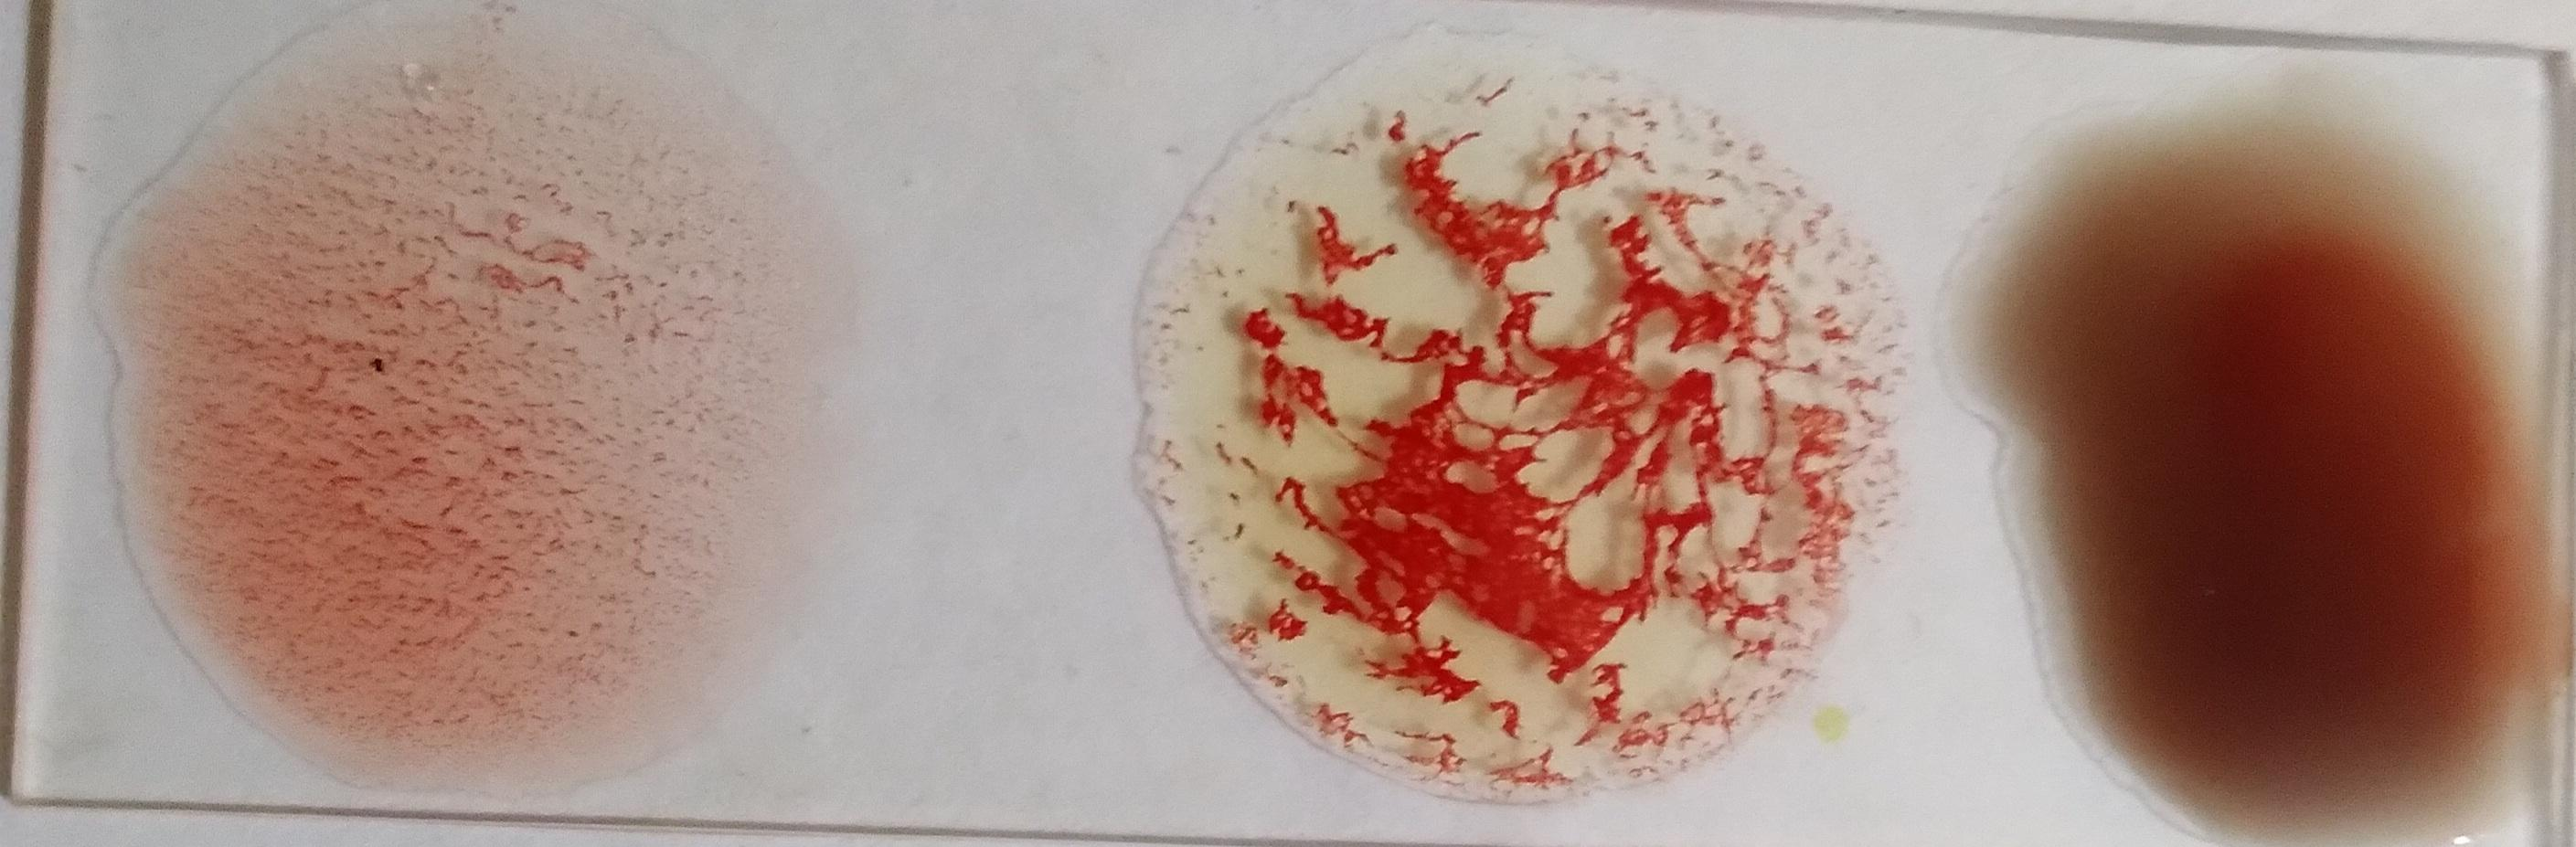B: (1176, 43, 1863, 811)
D: (176, 25, 752, 742)
